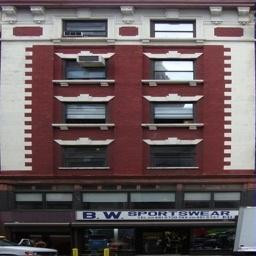building: (0, 0, 256, 237)
